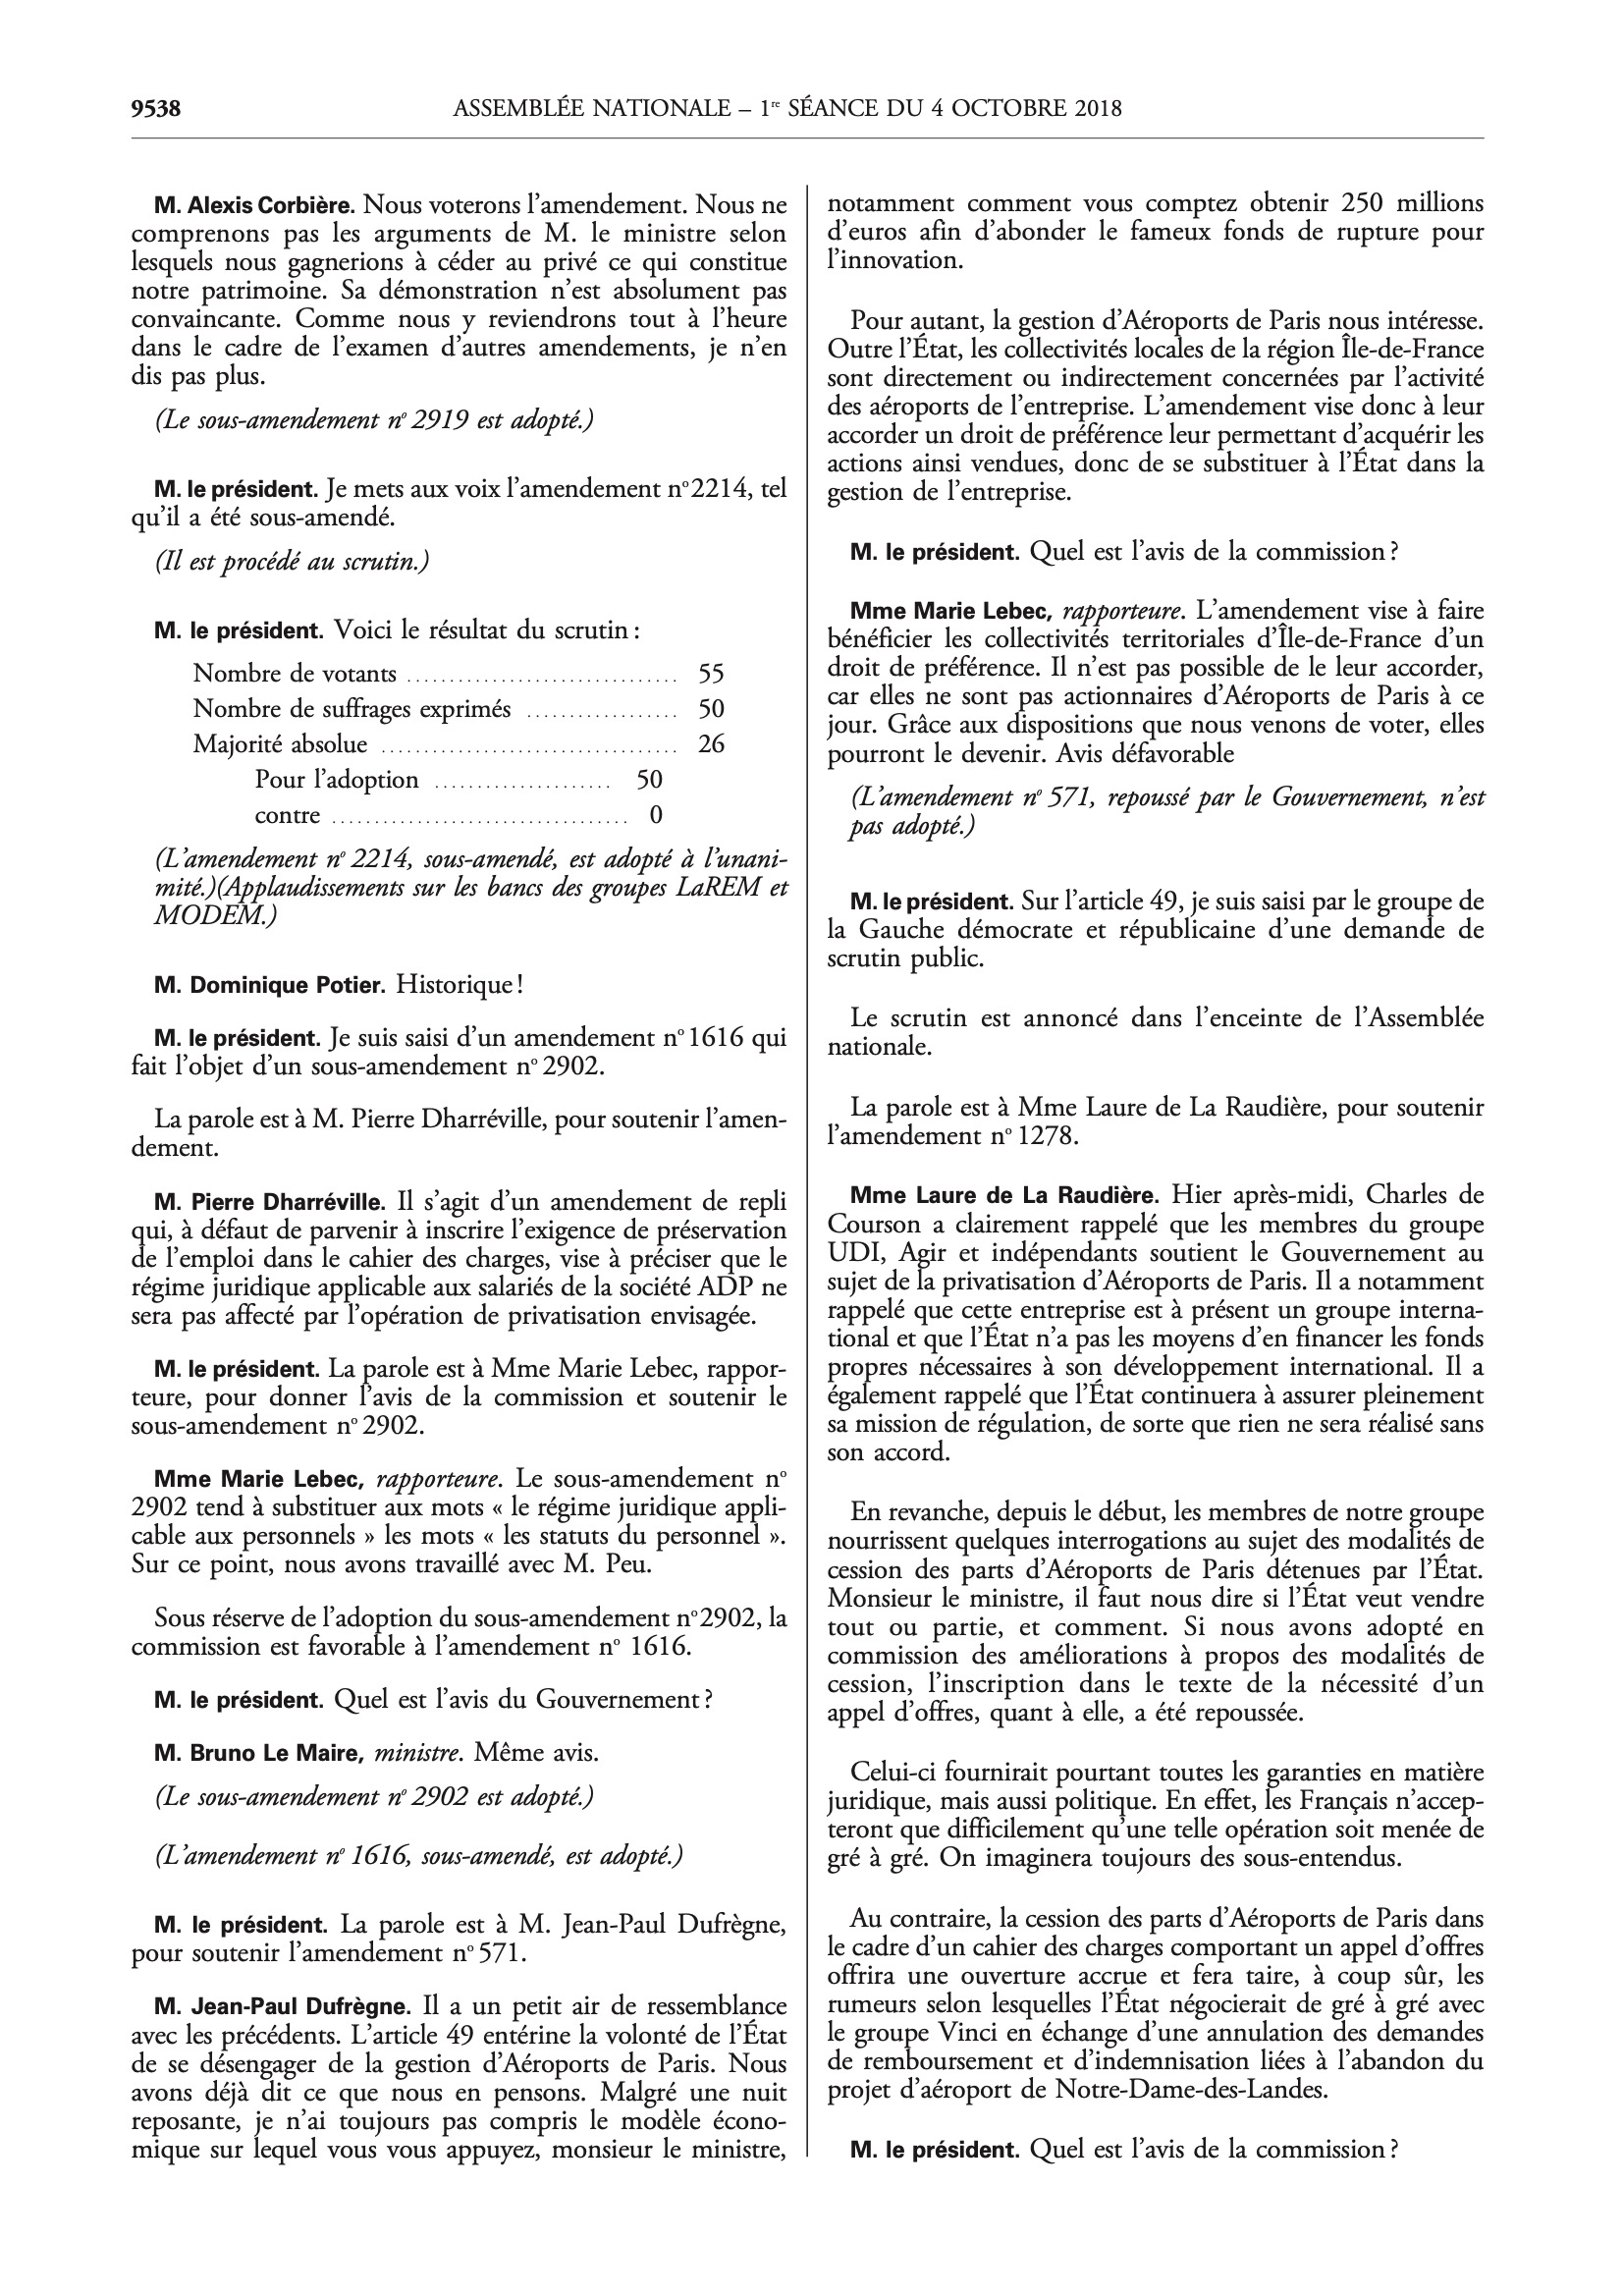MainZone-Continued: (819, 183, 1489, 283)
MainZone-P: (820, 1176, 1491, 1473), (820, 1494, 1490, 1732), (821, 1898, 1491, 2109), (121, 184, 792, 394), (820, 302, 1490, 513), (120, 1990, 792, 2172), (820, 591, 1490, 770), (121, 1183, 793, 1335), (820, 1755, 1492, 1879), (122, 1461, 793, 1585), (819, 883, 1491, 980), (121, 1349, 791, 1444), (140, 838, 791, 929), (121, 1902, 790, 1974), (121, 1599, 790, 1669), (829, 779, 1493, 849), (818, 1000, 1488, 1068), (122, 1019, 788, 1087), (817, 1087, 1490, 1154), (119, 468, 790, 535), (121, 1100, 791, 1167), (131, 1677, 771, 1724), (135, 961, 792, 1007), (829, 529, 1416, 574), (135, 1834, 696, 1880), (835, 2129, 1412, 2172), (135, 609, 656, 650), (121, 399, 605, 442), (138, 1781, 606, 1818), (134, 1737, 615, 1772), (140, 541, 438, 583)
NumberingZone: (121, 88, 189, 130)
RunningTitleZone: (442, 85, 1130, 135)
TableZone: (184, 656, 734, 831)
